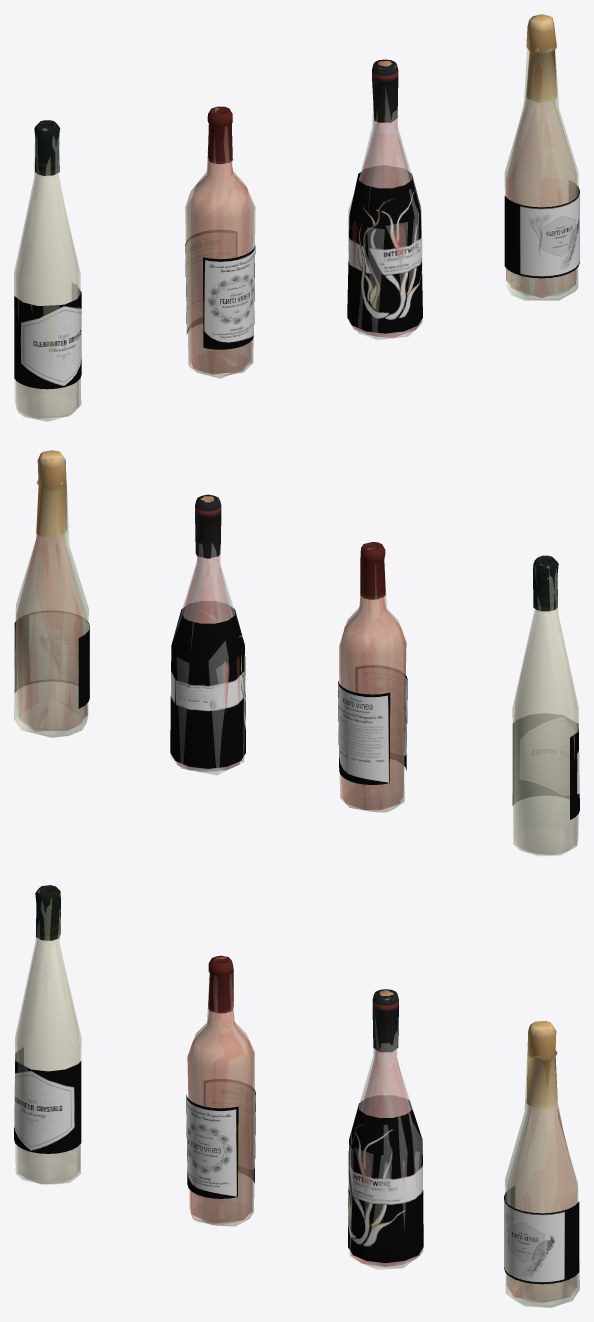
File: bottles.glb
3 renders of one model, top to bottom at view 1: azimuth 30°, elevation 25°; view 2: azimuth 150°, elevation 25°; view 3: azimuth 330°, elevation 25°, orthographic.
Parts seen in each view (by area): view 1: wine_bottles_01_champagne, wine_bottles_01_alsace, wine_bottles_01_burgundy, wine_bottles_01_bordeaux; view 2: wine_bottles_01_champagne, wine_bottles_01_alsace, wine_bottles_01_burgundy, wine_bottles_01_bordeaux; view 3: wine_bottles_01_champagne, wine_bottles_01_alsace, wine_bottles_01_burgundy, wine_bottles_01_bordeaux.
Boxes of the visible parts, <box> form: wine_bottles_01_champagne: <box>504,14,579,300</box>; wine_bottles_01_alsace: <box>14,120,81,421</box>; wine_bottles_01_burgundy: <box>347,59,422,340</box>; wine_bottles_01_bordeaux: <box>185,106,255,378</box>; wine_bottles_01_champagne: <box>14,450,89,737</box>; wine_bottles_01_alsace: <box>512,555,579,856</box>; wine_bottles_01_burgundy: <box>170,494,245,775</box>; wine_bottles_01_bordeaux: <box>338,542,407,812</box>; wine_bottles_01_champagne: <box>504,1021,579,1307</box>; wine_bottles_01_alsace: <box>14,885,81,1185</box>; wine_bottles_01_burgundy: <box>348,989,423,1269</box>; wine_bottles_01_bordeaux: <box>186,955,255,1226</box>.
Bounding box in the file's own units: 0.6763 × 0.3314 × 0.0801.
Materials: 9 (6 with a texture image).
